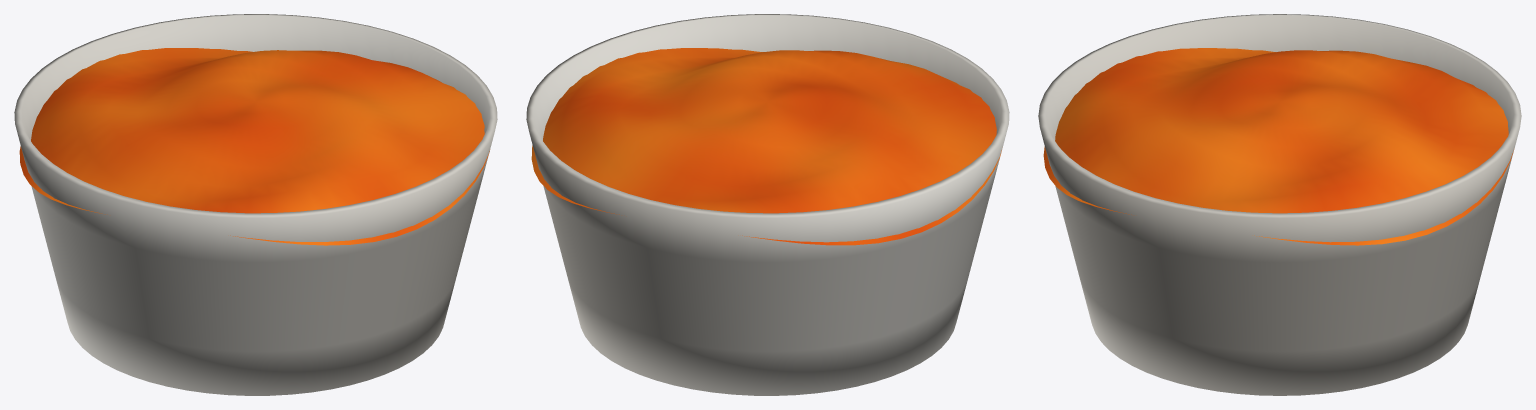
The model's file is sauce.glb.
The picture shows the model from 3 angles, left to right: view 1: azimuth 30°, elevation 25°; view 2: azimuth 150°, elevation 25°; view 3: azimuth 270°, elevation 25°; orthographic projection.
Visible parts, largest first — view 1: sauce; view 2: sauce; view 3: sauce.
Part boxes in pixels (x1,y1,x2,y2): sauce: (14,14,497,395); sauce: (526,14,1009,395); sauce: (1038,14,1521,395).
Size of the model in its own units: 0.0552 by 0.0271 by 0.0552.
